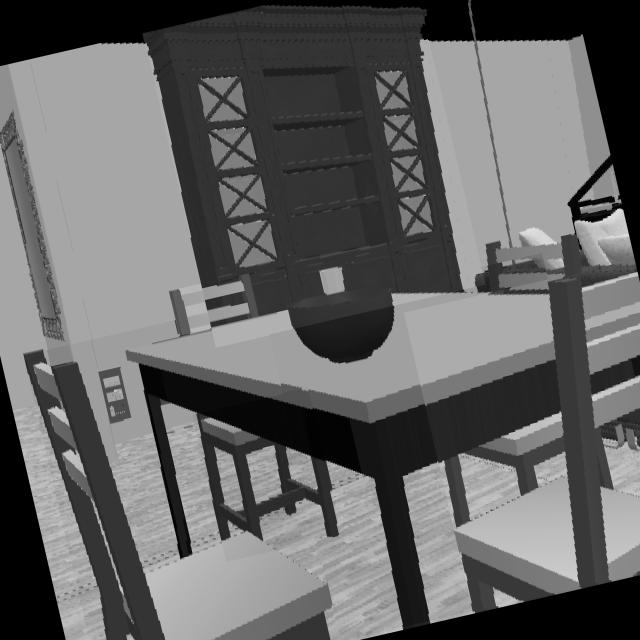bookshelf: (144, 7, 462, 316)
chair: (25, 351, 331, 640), (455, 274, 640, 610), (199, 413, 339, 540), (169, 275, 260, 335)
pillow: (575, 208, 634, 266)
table: (128, 294, 562, 625)
